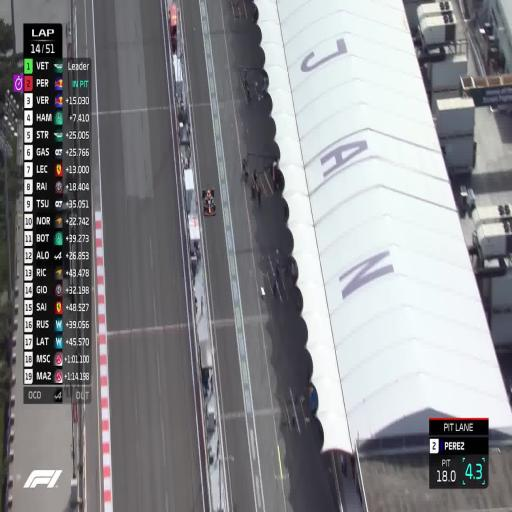f1_car: (202, 189, 215, 216)
